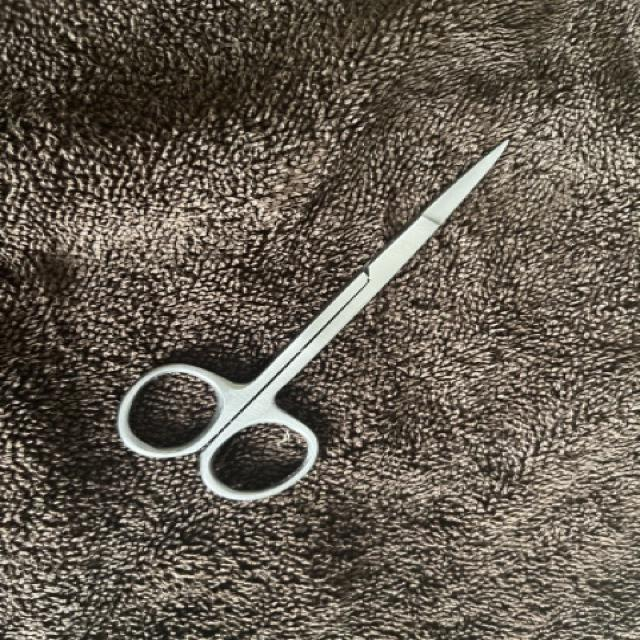scissor: (109, 131, 515, 506)
